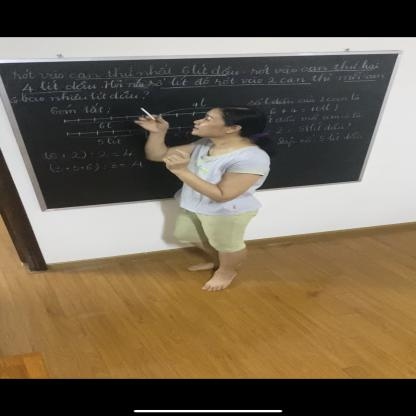cigarette: (140, 107, 156, 121)
person: (138, 105, 268, 294)
